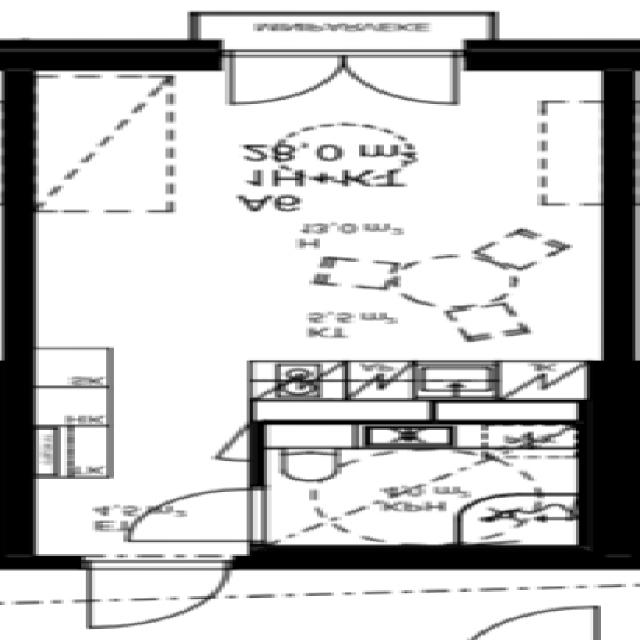door: (86, 561, 226, 628), (126, 488, 262, 540), (342, 50, 456, 104), (228, 50, 342, 104)
